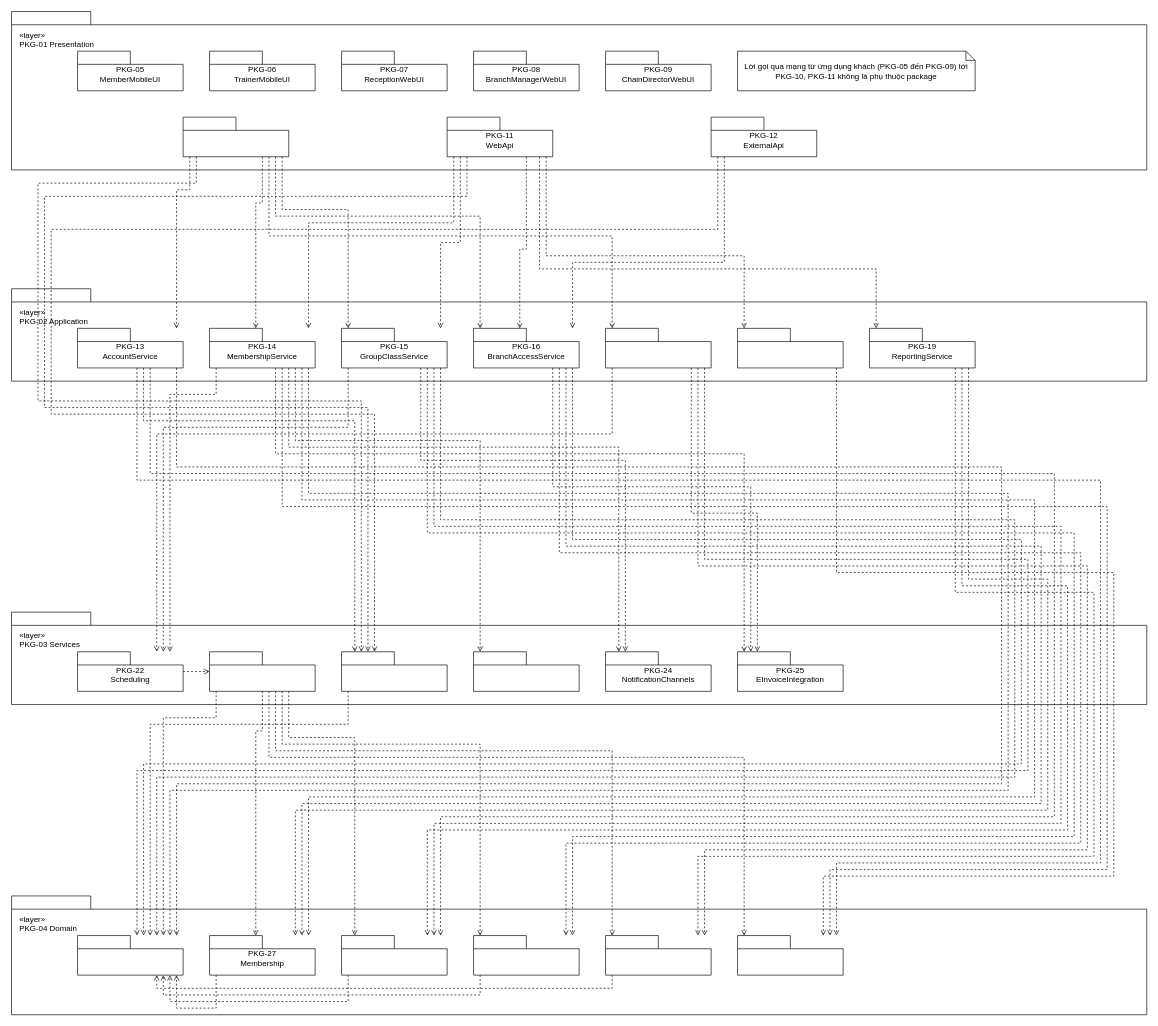
The diagram is 1158 pixels wide and 1026 high, and some of its shapes have lost their labels. The centre of each missing label's shape, as x and y in pixels:
"PKG-10 MobileApi" belongs at point 235,136.
"PKG-17 PersonalTrainingService" belongs at point 658,348.
"PKG-18 PricingService" belongs at point 790,348.
"PKG-20 Persistence" belongs at point 262,671.
"PKG-21 Security" belongs at point 394,671.
"PKG-23 PaymentIntegration" belongs at point 526,671.
"PKG-26 Account" belongs at point 130,955.
"PKG-28 Pricing" belongs at point 790,955.
"PKG-29 GroupClass" belongs at point 394,955.
"PKG-30 BranchAccess" belongs at point 526,955.
"PKG-31 PersonalTraining" belongs at point 658,955.
